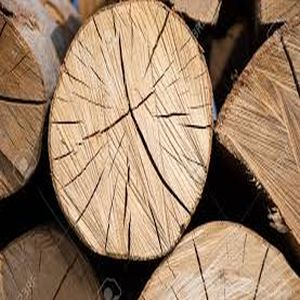log: (44, 4, 215, 262)
